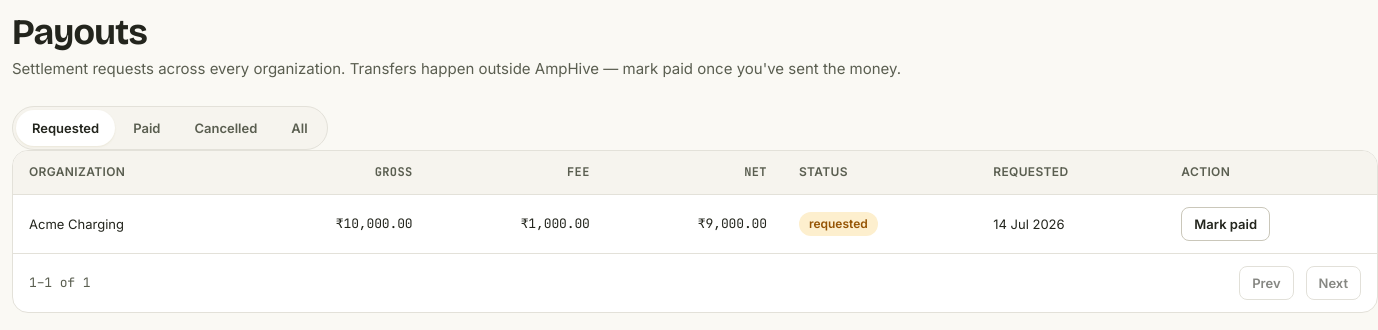
it: AdminPayouts list › switches tabs into the status param and resets to page 1
The image size is (1378, 330).
Expected: the text "Acme Charging" is shown, 13,194 -> 238,253
Step 1. Click the button "Paid" → point(147, 128), box 117,110 -> 176,146
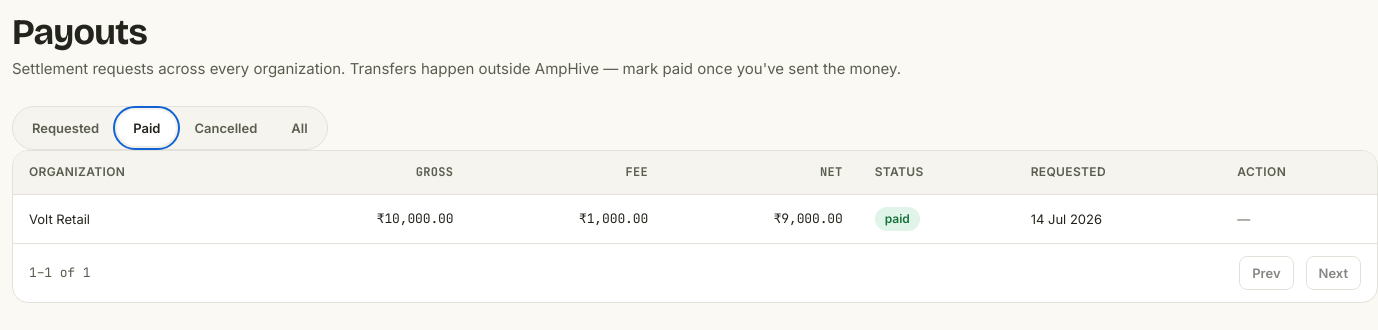
Result: the text "Volt Retail" is shown at 13,194 -> 260,243
